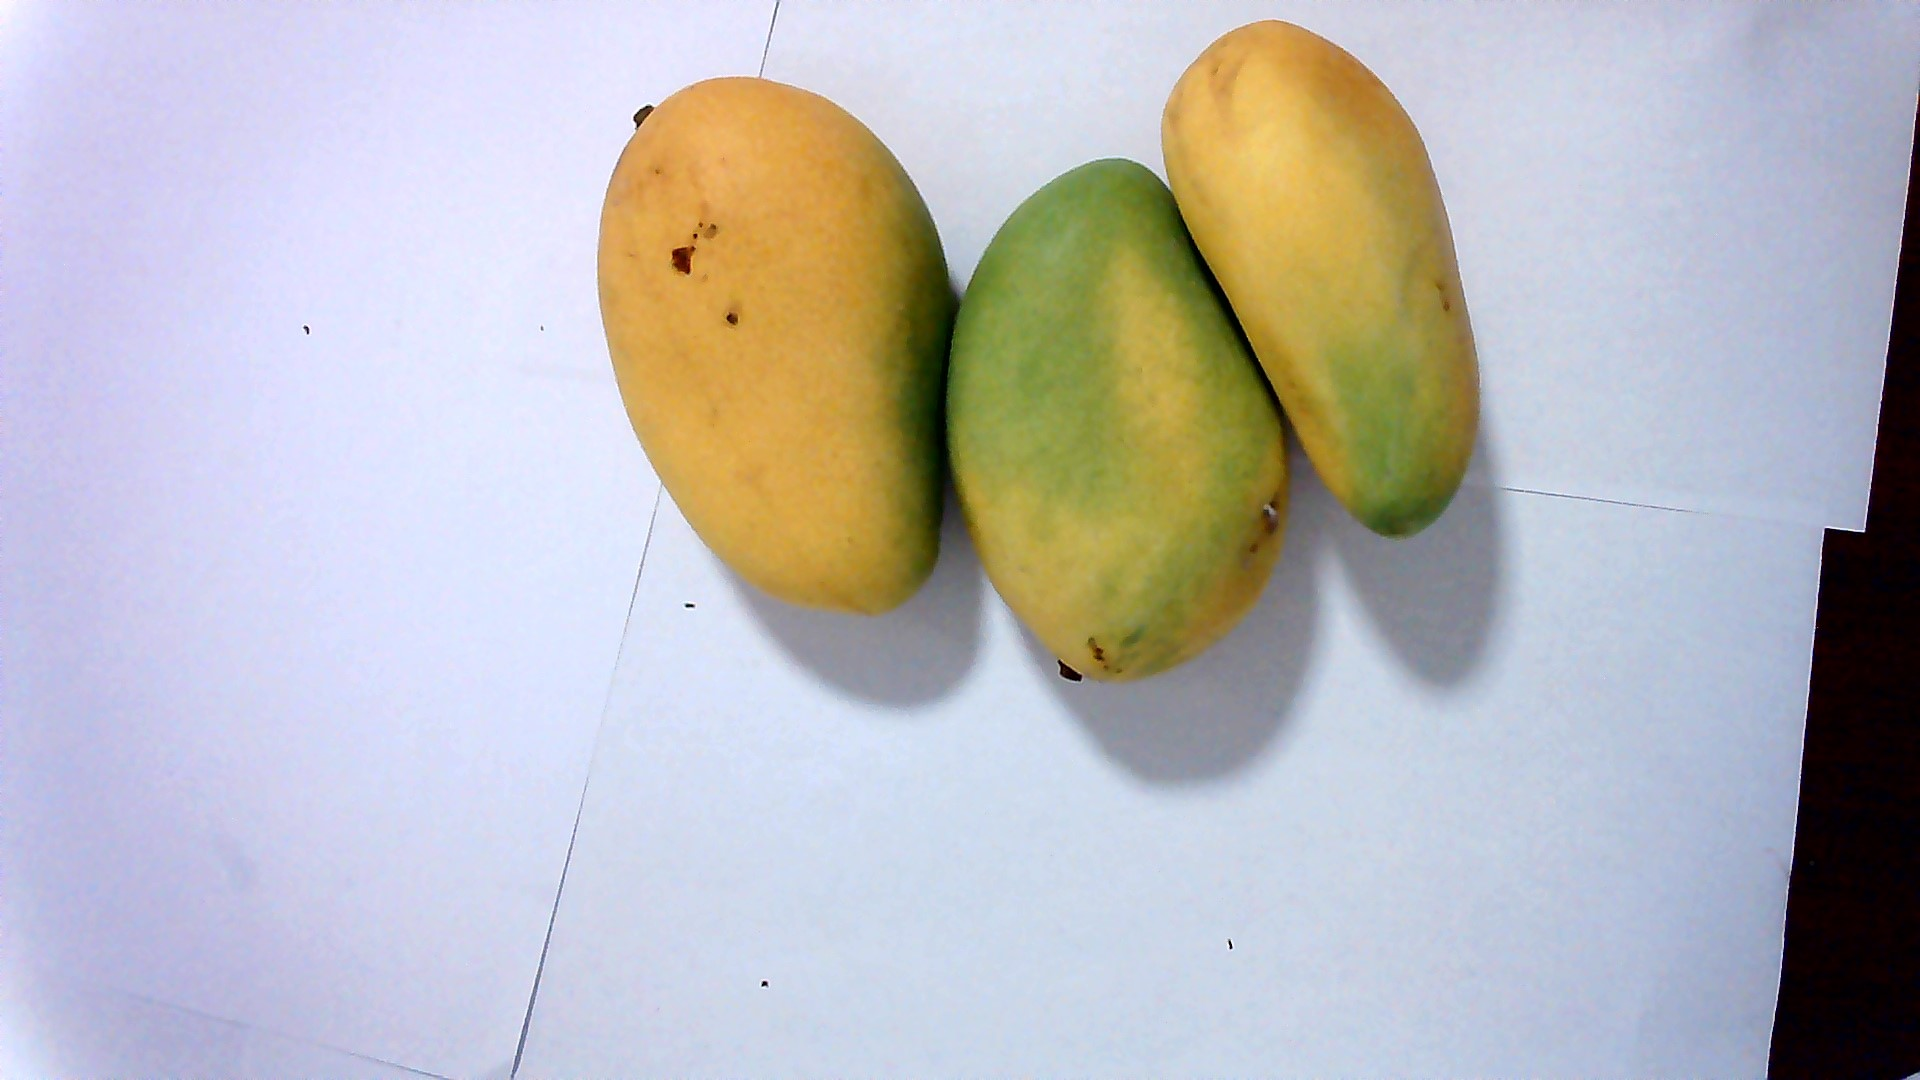mongo: (608, 82, 947, 622), (949, 156, 1280, 676), (1172, 32, 1490, 535)
